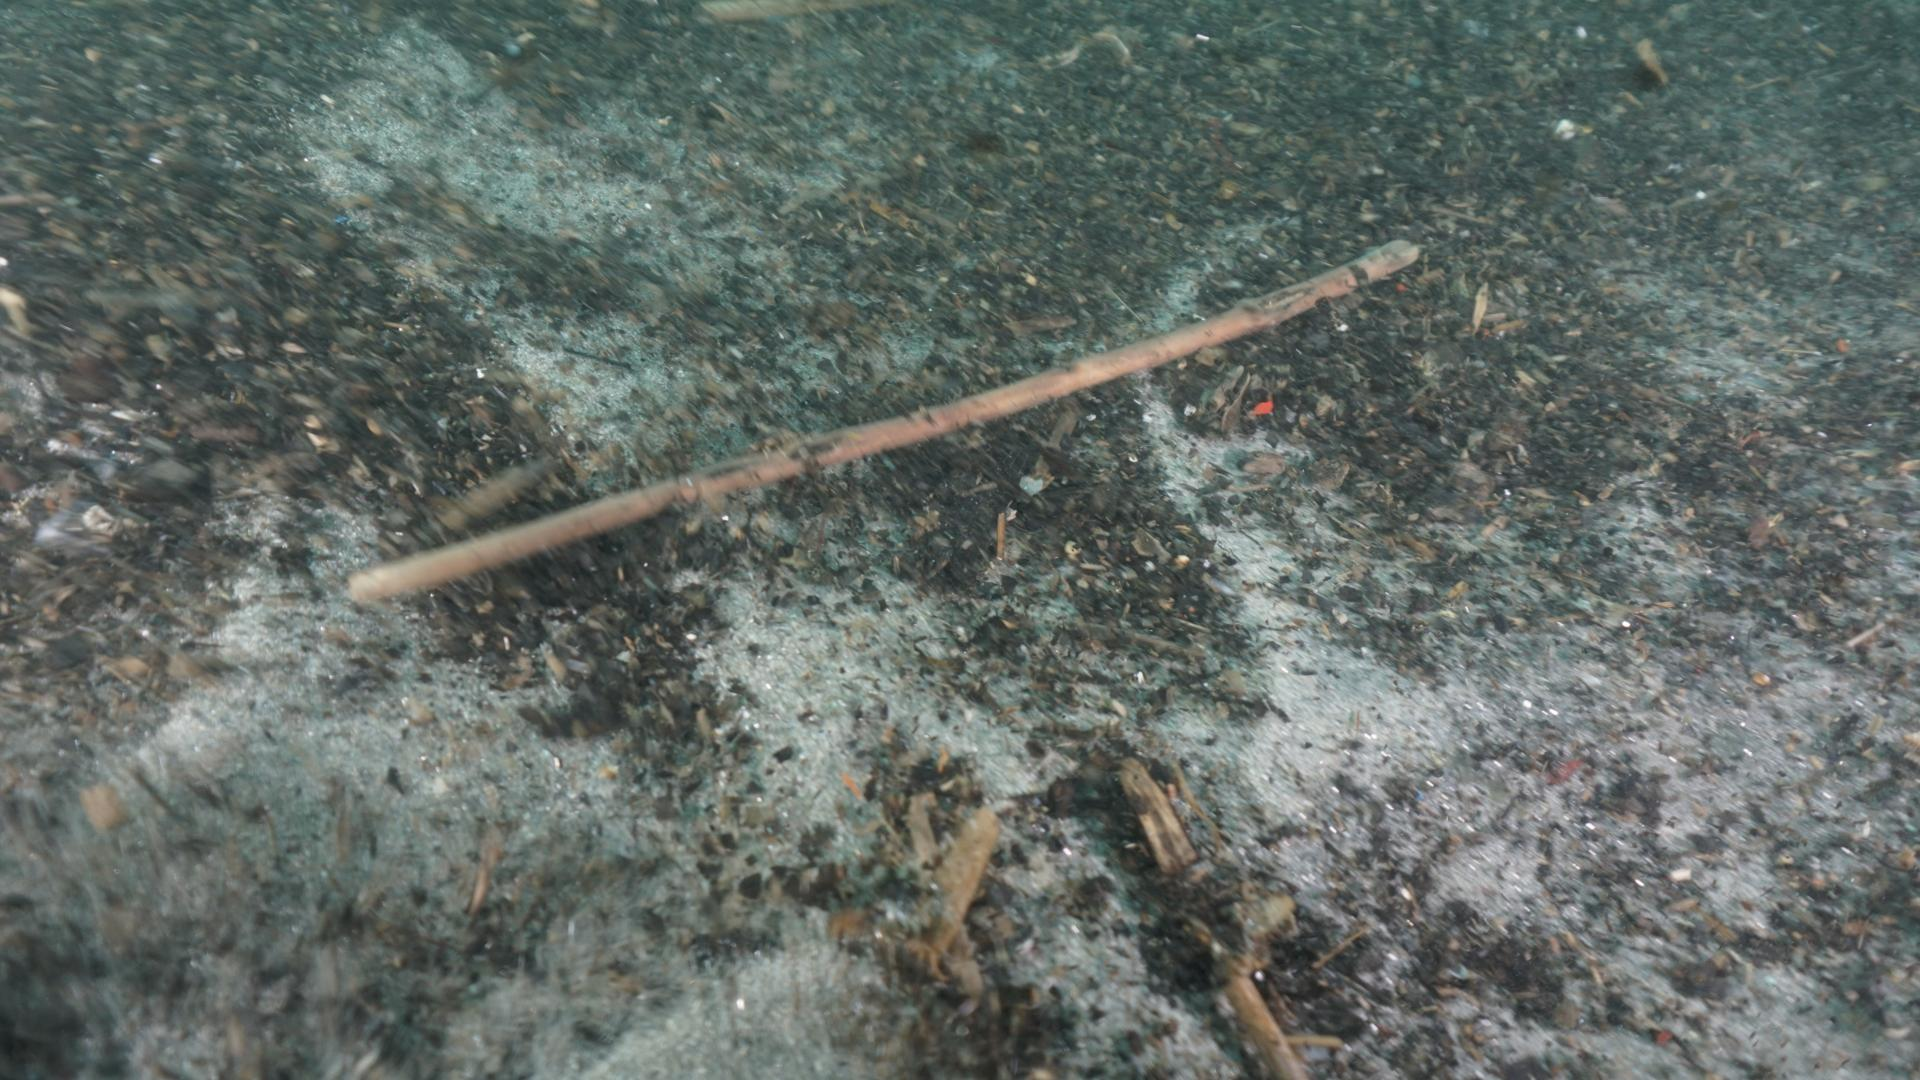wood: (344, 237, 1418, 605)
